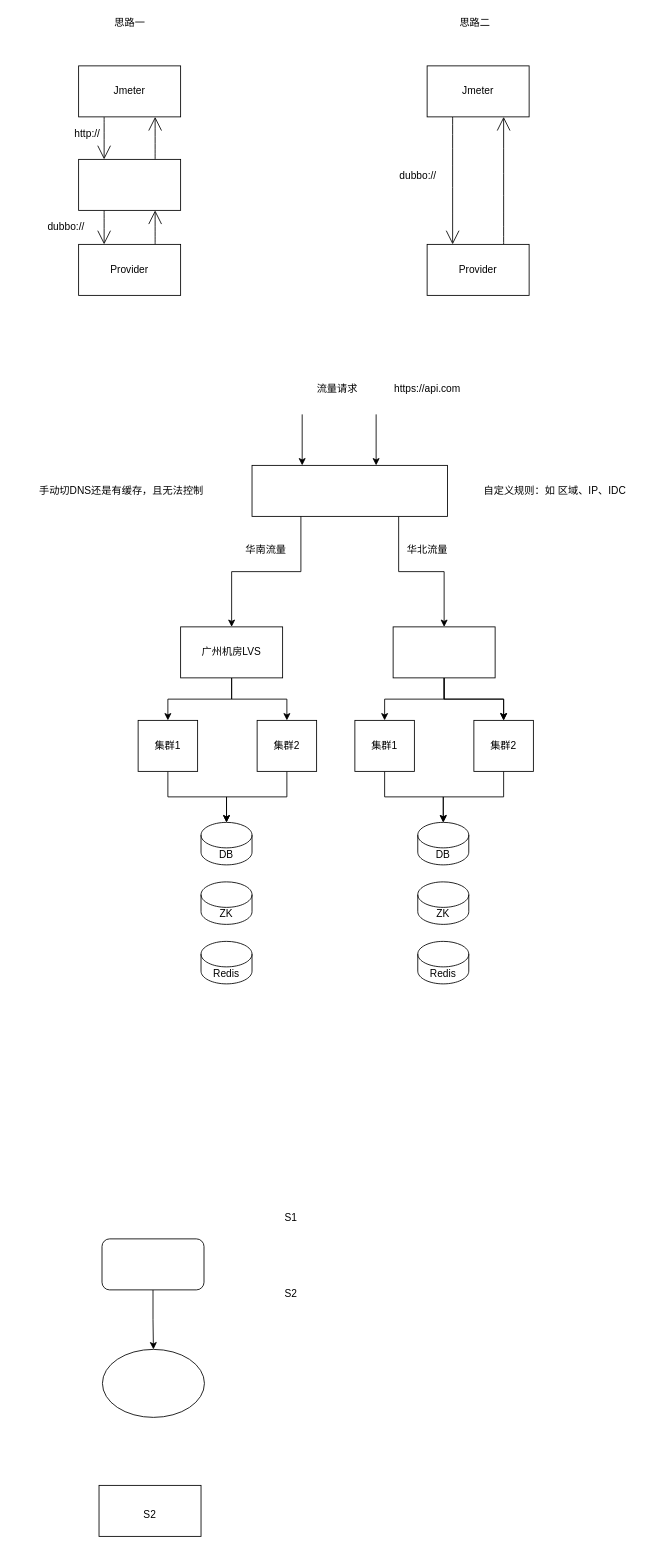
Some shapes in this 662 by 1551 pixel diagram are drawn without their labels. Each missing label, with the centre of its shape:
"Consumer" goes at (x=129, y=184).
"北京机房LVS" goes at (x=443, y=652).
"机器是否存活" goes at (x=153, y=1383).
"腾讯DNSprod智能解析" goes at (x=349, y=490).
